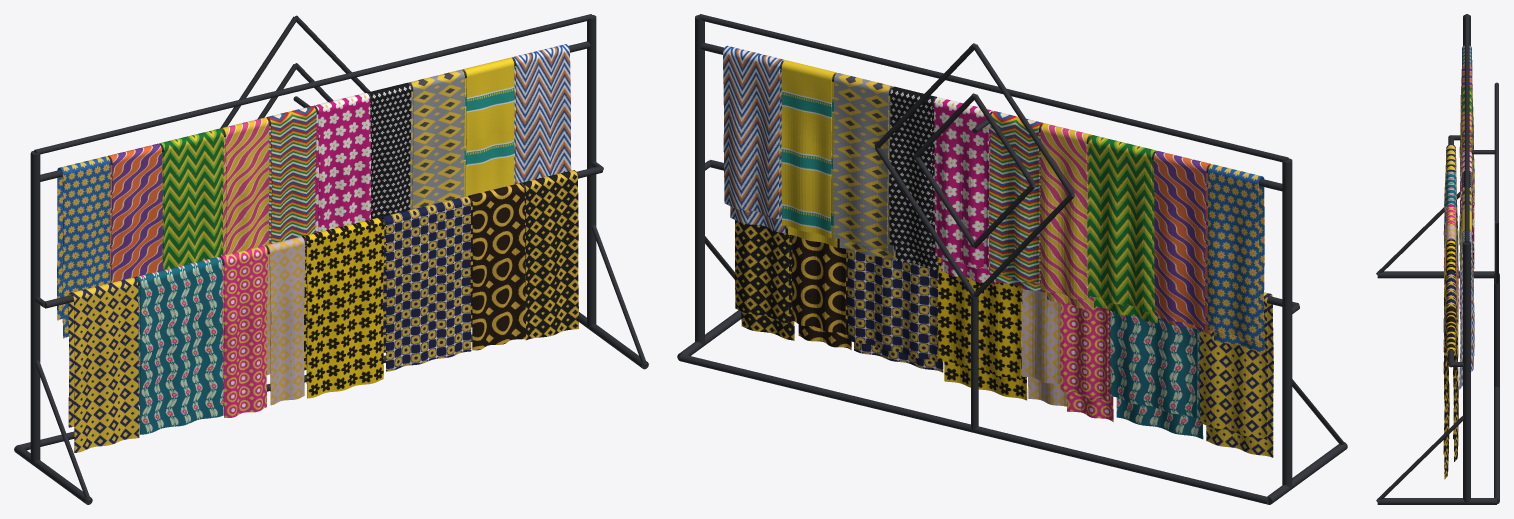
File: batik_rak.glb
3 views of the same model, side by side, from view 1: azimuth 30°, elevation 25°; view 2: azimuth 150°, elevation 25°; view 3: azimuth 270°, elevation 25° (orthographic). The views are drawn at different scales.
Parts seen in each view (by area): view 1: rak_gantungan, kain_navy_kawung, kain_teal_sulur, kain_kuning_bunga_hitam, kain_kuning_navy_kotak, kain_hitam_emas, kain_coklat_medalion, kain_hijau_chevron, kain_biru_zigzag, kain_pink_medalion, kain_biru_emas, kain_magenta_bunga (+7 smaller); view 2: rak_gantungan, kain_hijau_chevron, kain_biru_zigzag, kain_biru_emas, kain_abu_ikat, kain_teal_sulur, kain_navy_kawung, kain_oranye_parang, kain_kuning_pita_teal, kain_magenta_bunga, kain_kuning_bunga_hitam, kain_kuning_navy_kotak (+7 smaller); view 3: rak_gantungan, kain_hitam_emas, kain_biru_zigzag, kain_coklat_medalion, kain_teal_sulur, kain_kuning_bunga_hitam, kain_navy_kawung, kain_kuning_navy_kotak, kain_pink_medalion, kain_hijau_chevron, kain_magenta_bunga, kain_abu_muda_belah_ketupat (+7 smaller).
Boxes of the visible parts, x1=… form: rak_gantungan: x1=14, y1=14, x2=648, y2=504; kain_navy_kawung: x1=381, y1=196, x2=471, y2=371; kain_teal_sulur: x1=135, y1=256, x2=223, y2=434; kain_kuning_bunga_hitam: x1=302, y1=217, x2=384, y2=398; kain_kuning_navy_kotak: x1=68, y1=277, x2=139, y2=452; kain_hitam_emas: x1=521, y1=170, x2=578, y2=340; kain_coklat_medalion: x1=467, y1=183, x2=525, y2=350; kain_hijau_chevron: x1=159, y1=128, x2=223, y2=269; kain_biru_zigzag: x1=511, y1=44, x2=571, y2=184; kain_pink_medalion: x1=219, y1=245, x2=267, y2=417; kain_biru_emas: x1=57, y1=156, x2=110, y2=338; kain_magenta_bunga: x1=313, y1=93, x2=371, y2=232; rak_gantungan: x1=677, y1=14, x2=1347, y2=504; kain_hijau_chevron: x1=1087, y1=135, x2=1157, y2=322; kain_biru_zigzag: x1=723, y1=45, x2=785, y2=232; kain_biru_emas: x1=1207, y1=164, x2=1264, y2=352; kain_abu_ikat: x1=833, y1=73, x2=894, y2=261; kain_teal_sulur: x1=1110, y1=310, x2=1203, y2=439; kain_navy_kawung: x1=847, y1=245, x2=943, y2=372; kain_oranye_parang: x1=1153, y1=151, x2=1211, y2=334; kain_kuning_pita_teal: x1=781, y1=60, x2=837, y2=247; kain_magenta_bunga: x1=934, y1=97, x2=995, y2=284; kain_kuning_bunga_hitam: x1=937, y1=257, x2=1027, y2=400; kain_kuning_navy_kotak: x1=1199, y1=292, x2=1273, y2=457; rak_gantungan: x1=1376, y1=14, x2=1499, y2=504; kain_hitam_emas: x1=1444, y1=328, x2=1458, y2=479; kain_biru_zigzag: x1=1459, y1=230, x2=1474, y2=389; kain_coklat_medalion: x1=1443, y1=306, x2=1458, y2=454; kain_teal_sulur: x1=1443, y1=171, x2=1458, y2=332; kain_kuning_bunga_hitam: x1=1444, y1=239, x2=1458, y2=399; kain_navy_kawung: x1=1444, y1=271, x2=1458, y2=414; kain_kuning_navy_kotak: x1=1444, y1=144, x2=1458, y2=295; kain_pink_medalion: x1=1443, y1=205, x2=1458, y2=352; kain_hijau_chevron: x1=1459, y1=86, x2=1474, y2=244; kain_magenta_bunga: x1=1459, y1=149, x2=1474, y2=308; kain_abu_muda_belah_ketupat: x1=1444, y1=224, x2=1458, y2=330.
Size of the model in its own units: 5.48 by 3.42 by 1.24.
Materials: 19 (19 with a texture image).
